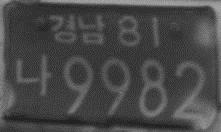1: (149, 15, 161, 50)
2: (172, 60, 208, 120)
8: (137, 57, 169, 118), (115, 14, 143, 47)
9: (61, 55, 96, 116), (99, 55, 131, 117)
경남_O: (45, 12, 107, 46)
나: (13, 52, 53, 98)
